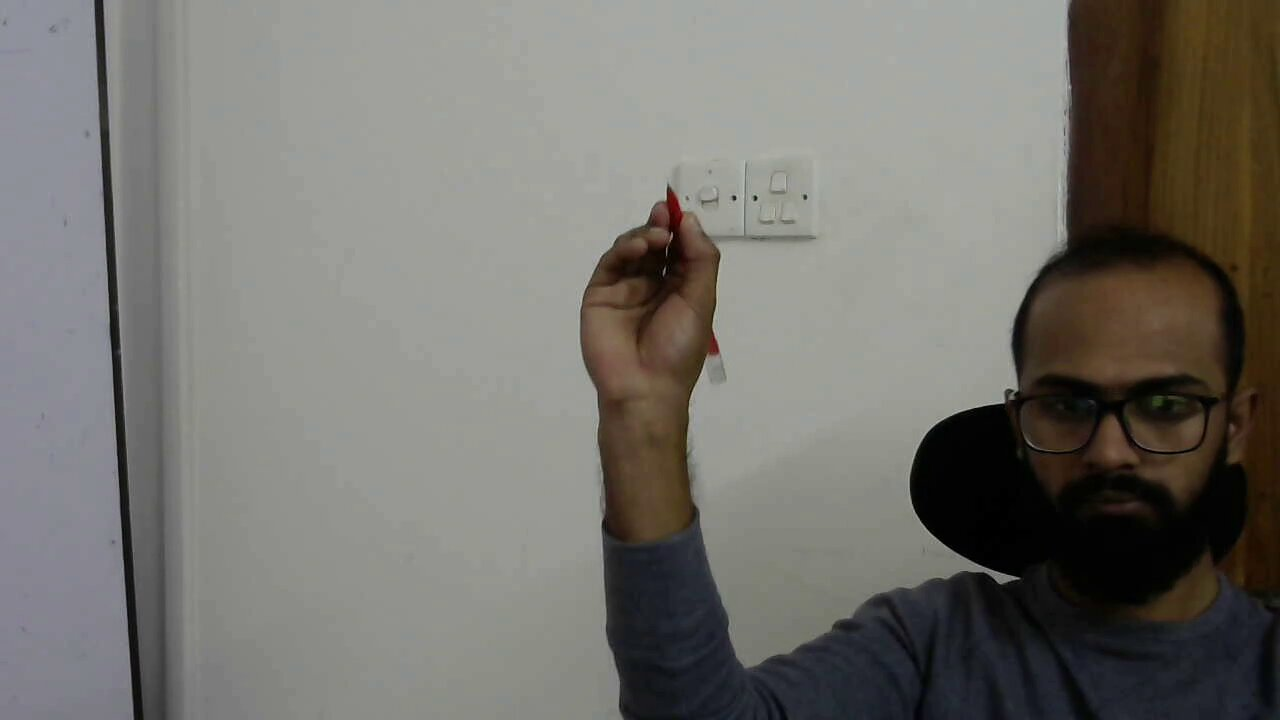pointer: (585, 201, 724, 344)
